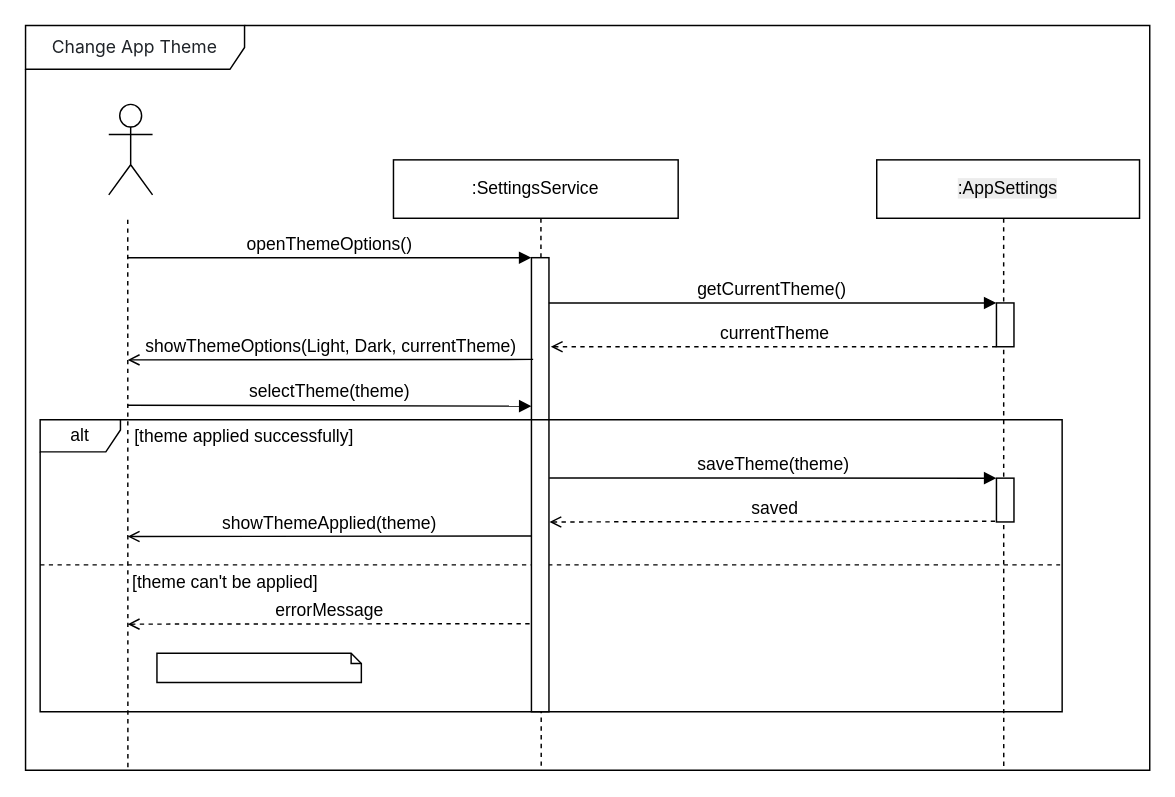
Image size: 1175x797. Some labels were removed from this diagram. The box of each missing label's shape, as (x1, y1, x2, y2) in pixels:
previous theme remains in use: (155, 652, 361, 683)
User: (107, 103, 153, 195)
